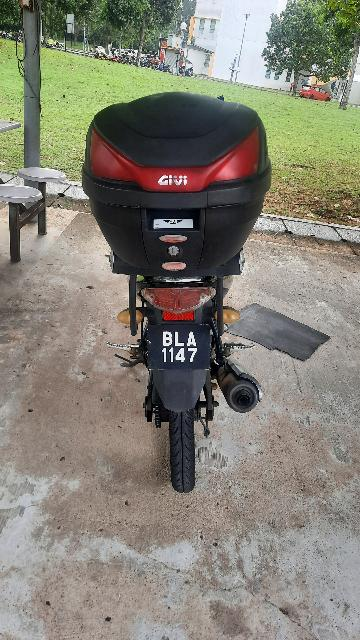License_Plate: (141, 320, 222, 372)
motorcycle: (79, 86, 280, 500)
